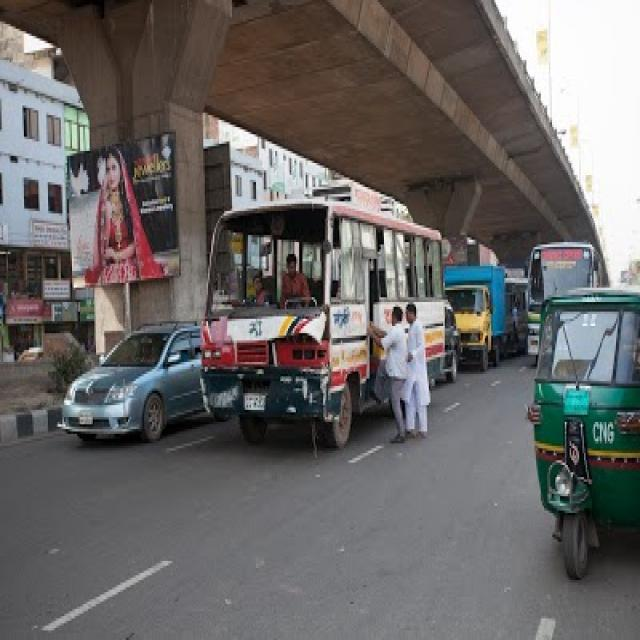bus: (200, 197, 445, 450)
